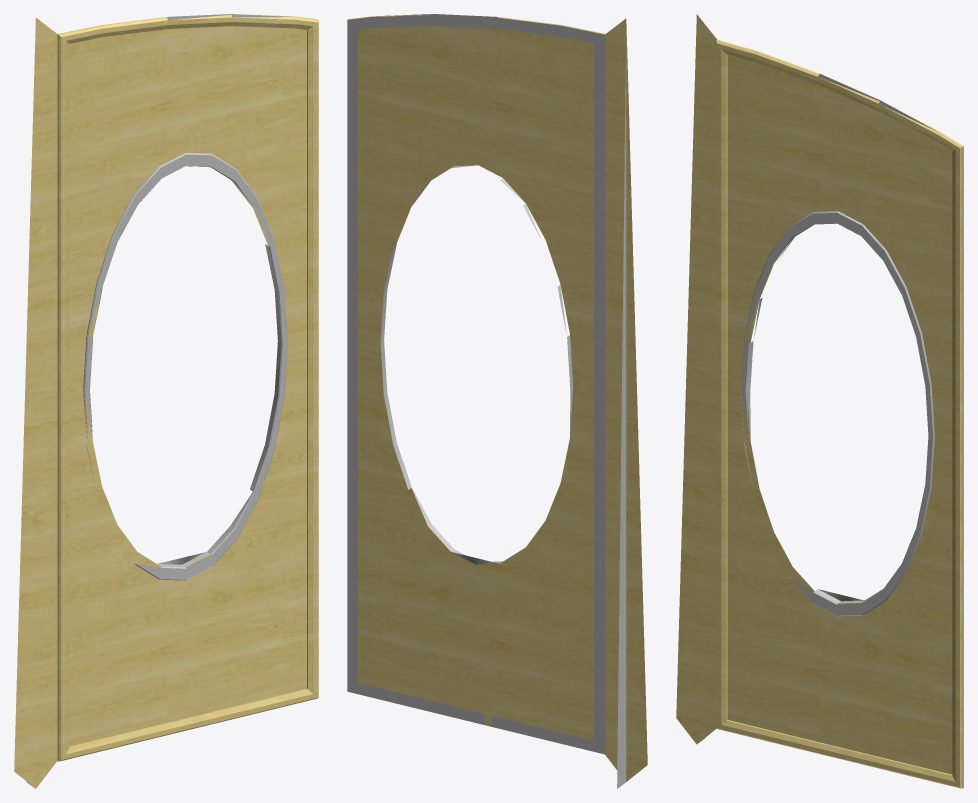
The picture shows the model from 3 angles, left to right: view 1: azimuth 30°, elevation 25°; view 2: azimuth 150°, elevation 25°; view 3: azimuth 330°, elevation 25°; orthographic projection. The views are drawn at different scales.
Bounding box in the file's own units: 0.5347 × 1.3 × 0.0348.
